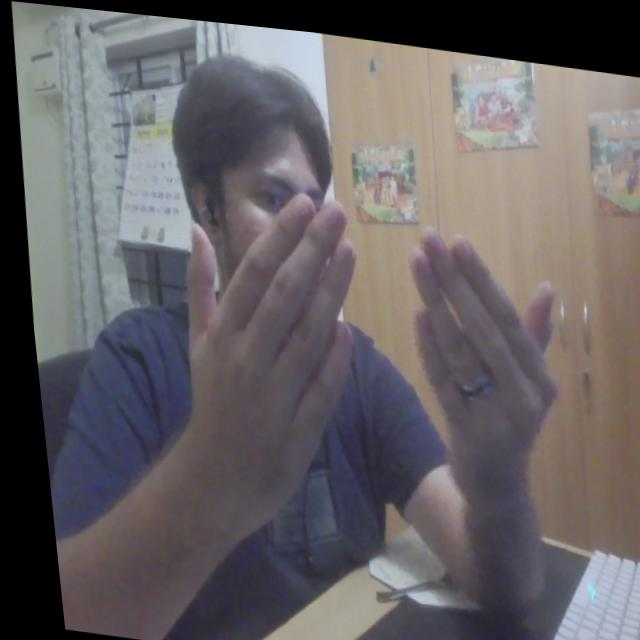thankyou: (146, 159, 583, 560)
